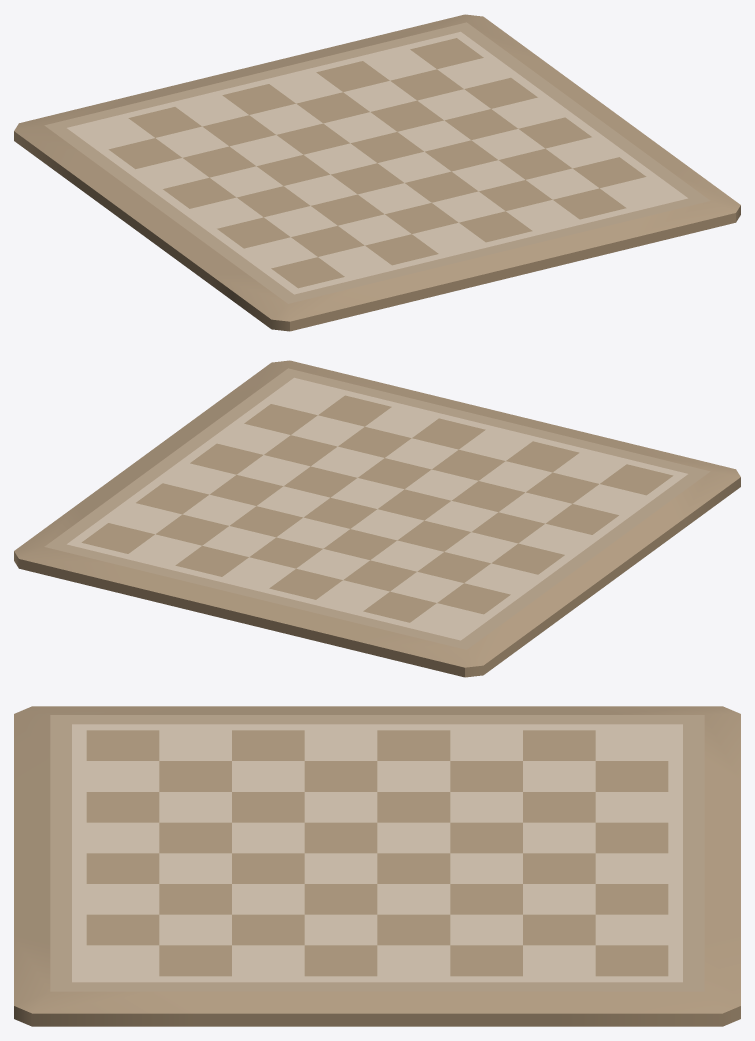
Rendered from board_B.obj.
3 views of the same model, one above another, from view 1: azimuth 30°, elevation 25°; view 2: azimuth 150°, elevation 25°; view 3: azimuth 270°, elevation 25° (orthographic). The views are drawn at different scales.
Visible parts, largest first — view 1: board_B; view 2: board_B; view 3: board_B.
Boxes of the visible parts, bbox=[...] form: board_B: bbox=[14, 14, 740, 331]; board_B: bbox=[14, 360, 740, 677]; board_B: bbox=[14, 706, 740, 1026].
Bounding box in the file's own units: 10 × 0.3 × 10.
1 material, 1 textured.
